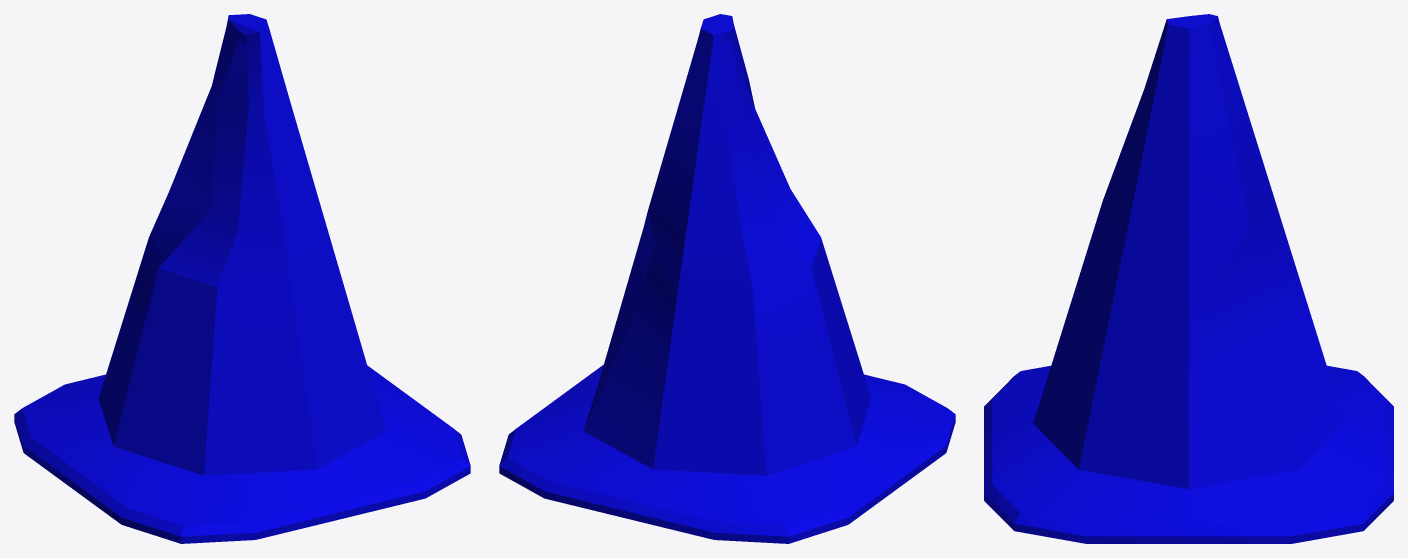
The model's file is TrafficCone.fbx.
The picture shows the model from 3 angles, left to right: view 1: azimuth 30°, elevation 25°; view 2: azimuth 150°, elevation 25°; view 3: azimuth 270°, elevation 25°; orthographic projection. The views are drawn at different scales.
Visible parts, largest first — view 1: pPlane4; view 2: pPlane4; view 3: pPlane4.
Part boxes in pixels (x1,y1,x2,y2): pPlane4: (14, 14, 470, 543); pPlane4: (499, 14, 955, 543); pPlane4: (984, 14, 1393, 543).
Size of the model in its own units: 0.4473 by 0.5311 by 0.4473.
